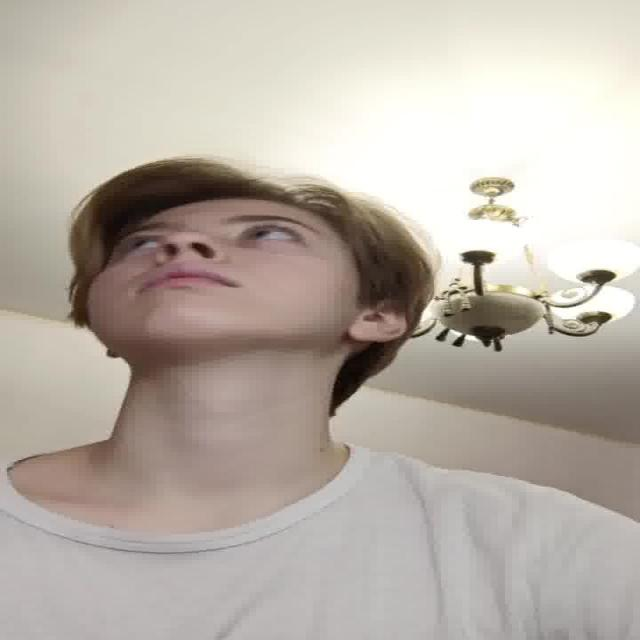earlobe: (346, 320, 386, 343), (102, 348, 125, 360)
eye: (240, 226, 304, 246), (123, 236, 157, 254)
nose: (157, 246, 220, 273)
wholeear: (345, 296, 409, 342)
